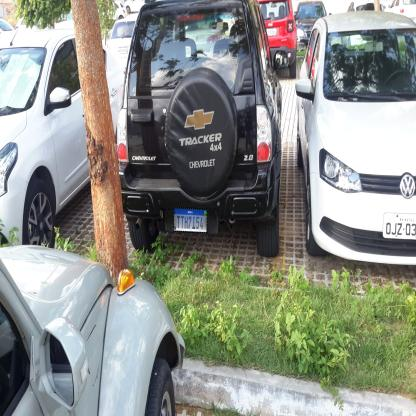PlacaM: (173, 207, 208, 234)
